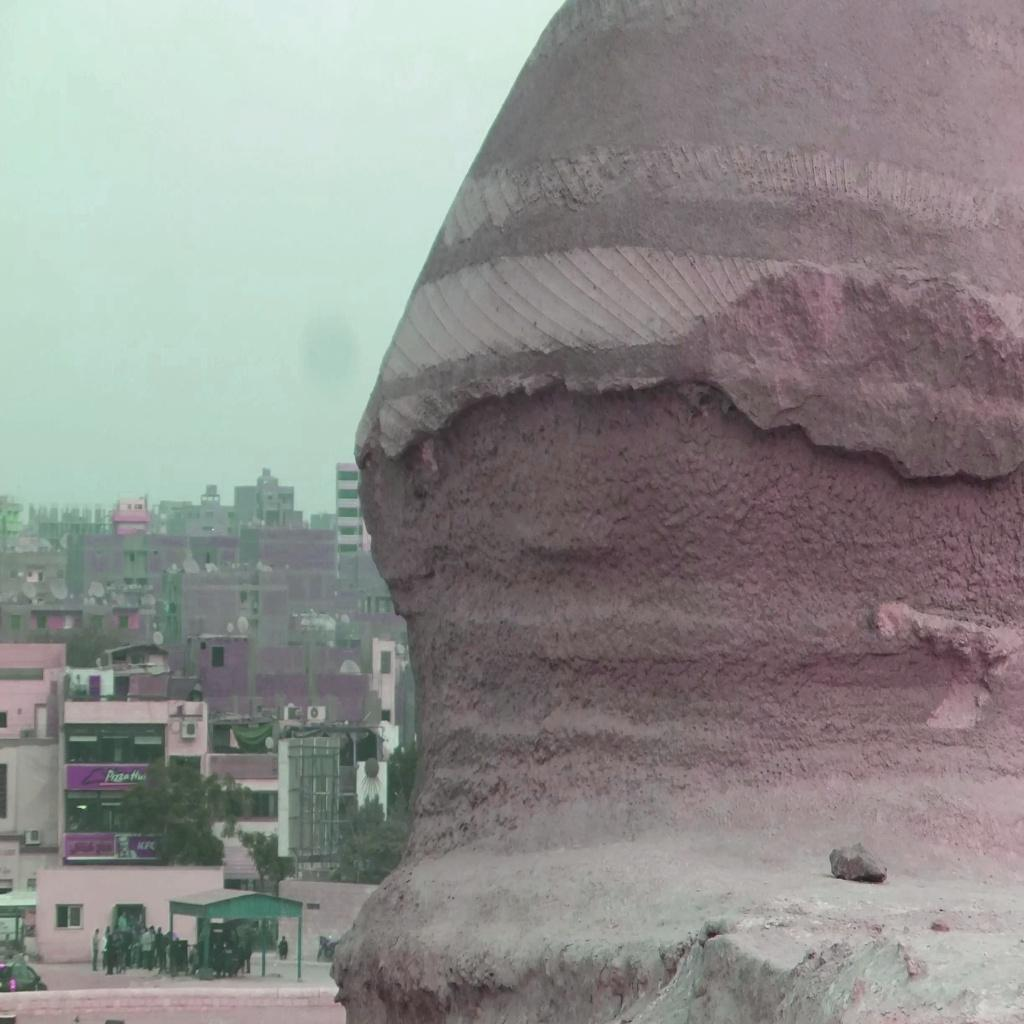Sphinx: (332, 0, 1022, 1021)
